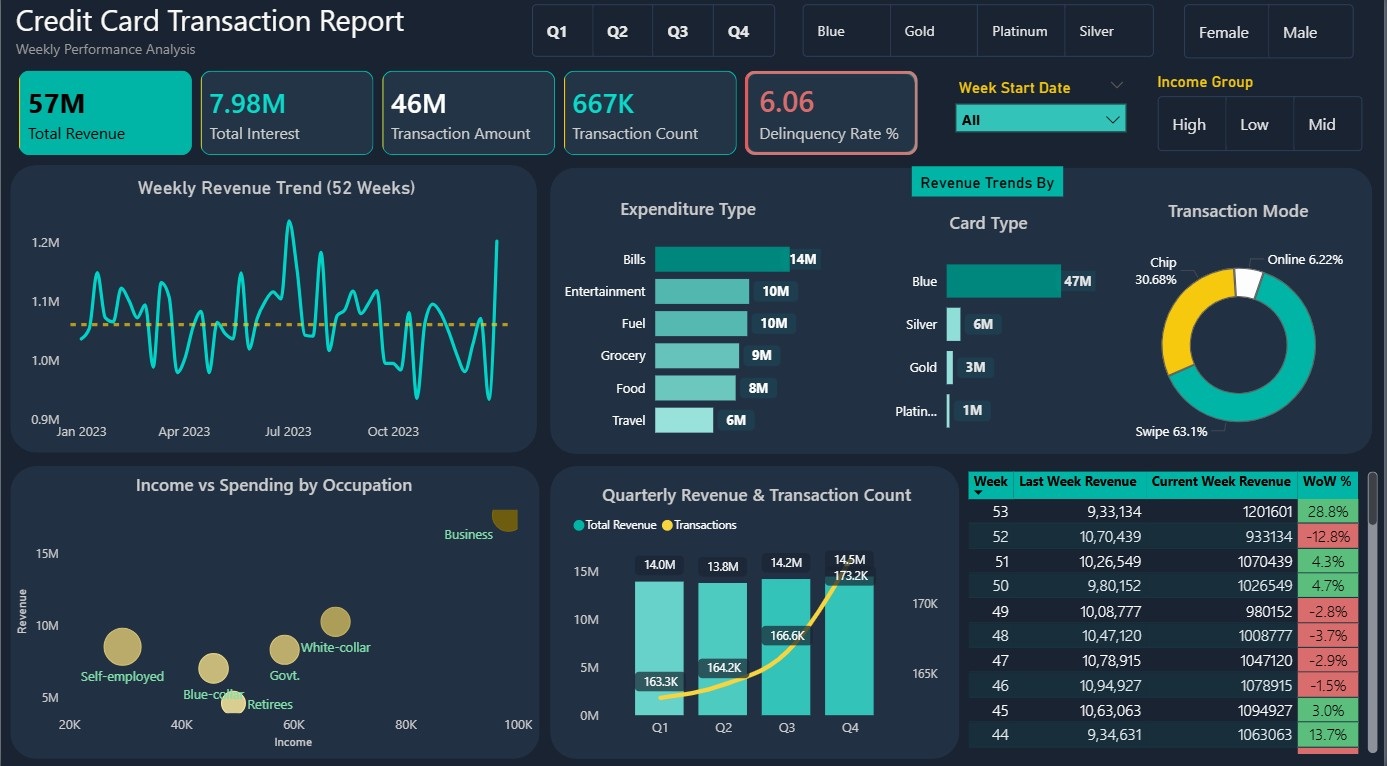

Layout of this report page (visuals, bound fields, positions):
{"tool":"powerbi","page":{"name":"Transaction Report","canvas":[1280,720],"ordinal":0},"visuals":[{"type":"textbox","box":[8.6,2.4,425.3,77],"z":0},{"type":"shape","box":[8.6,160.1,487.6,266.4],"z":0,"group":"g7"},{"type":"shape","box":[8.6,438.7,490,271.3],"z":0,"group":"g8"},{"type":"cardVisual","fields":{"Data":["Key Measures.Total Revenue","Key Measures.Total Interest","Key Measures.Transaction Amount","Key Measures.Transaction Count","Key Measures.Delinquency Rate %"]},"box":[0,56.2,866.4,112.4],"z":1000},{"type":"advancedSlicerVisual","fields":{"Values":["public cc_detail.qtr"]},"box":[486.4,6.1,238.3,59.9],"z":2000},{"type":"shape","box":[508.4,162.5,761.3,265.2],"z":2000,"group":"g5"},{"type":"slicer","fields":{"Values":["public cc_detail.week_start_date"]},"box":[873.7,74.5,178.4,72.1],"z":3000},{"type":"shape","box":[508.4,438.7,378.8,271.3],"z":3000,"group":"g4"},{"type":"advancedSlicerVisual","fields":{"Values":["public cc_detail.card_category"]},"box":[736.9,6.1,338.5,59.9],"z":4000},{"type":"barChart","title":"Expenditure Type","fields":{"Y":["Sum(public cc_detail.Revenue)"],"Category":["public cc_detail.exp_type"]},"box":[508.4,189.4,255.4,235.9],"z":4000,"group":"g5"},{"type":"lineStackedColumnComboChart","title":"Quarterly Revenue & Transaction Count","fields":{"Category":["Date Table.Quarter"],"Y":["Key Measures.Total Revenue"],"Y2":["Sum(public cc_detail.total_trans_ct)"]},"box":[524.3,453.4,350.7,246],"z":4000,"group":"g1"},{"type":"advancedSlicerVisual","fields":{"Values":["public cust_detail.Full Gender"]},"box":[1090.2,6.3,168.1,60.2],"z":5000},{"type":"advancedSlicerVisual","title":"Income Group","fields":{"Values":["public cust_detail.IncomeGroup"]},"box":[1065.6,74.5,201.6,78.2],"z":6000},{"type":"group","id":"g1","title":"Group 2","box":[524.3,453.4,350.7,245.6],"z":6000,"group":"g4"},{"type":"group","id":"g2","title":"Group 3","box":[8.6,160.1,487.6,266.4],"z":7000},{"type":"barChart","title":"Card Type","fields":{"Y":["Sum(public cc_detail.Revenue)"],"Category":["public cc_detail.card_category"]},"box":[809.7,201.6,208.3,223.6],"z":8000,"group":"g5"},{"type":"tableEx","fields":{"Values":["Date Table.Week Number","Key Measures.Previous Week Revenue","Key Measures.Total Revenue","Key Measures.WoW Change"]},"box":[889.6,438.7,389.8,271.3],"z":8000},{"type":"group","id":"g3","title":"Group 1","box":[8.6,438.7,490,271.3],"z":9000},{"type":"donutChart","title":"Transaction Mode","fields":{"Category":["public cc_detail.use_chip"],"Y":["Sum(public cc_detail.Revenue)"]},"box":[1026.7,190.6,238.1,250.5],"z":10000,"group":"g5"},{"type":"group","id":"g4","title":"Group 5","box":[508.4,438.7,378.8,271.3],"z":10000},{"type":"group","id":"g5","title":"Group 6","box":[508.4,161.3,761.3,279.8],"z":11000},{"type":"group","id":"g6","title":"Group 3","box":[8.6,438.7,490,271.3],"z":13000,"group":"g12"},{"type":"group","id":"g7","title":"Group 2","box":[8.6,160.1,487.6,266.4],"z":13500,"group":"g11"},{"type":"group","id":"g8","title":"Group 2","box":[8.6,438.7,490,271.3],"z":13500,"group":"g10"},{"type":"lineChart","title":"Weekly Revenue Trend  (52 Weeks)","fields":{"Category":["public cc_detail.week_start_date"],"Y":["Key Measures.Total Revenue"]},"box":[21.9,171.5,465.8,253.8],"z":15000,"group":"g11"},{"type":"textbox","box":[843.2,161.3,140.1,28.1],"z":16000,"group":"g5"},{"type":"scatterChart","title":"Income vs Spending by Occupation","fields":{"X":["Key Measures.Avg Income"],"Y":["Key Measures.Total Revenue"],"Category":["public cust_detail.customer_job"],"Size":["Key Measures.Customer Count"]},"box":[8.6,445.3,488.4,260.7],"z":16000,"group":"g12"},{"type":"group","id":"g9","title":"Group 4","box":[8.6,160.1,487.6,266.4],"z":16002,"group":"g2"},{"type":"group","id":"g10","title":"Group 4","box":[8.6,438.7,490,271.3],"z":16002,"group":"g6"},{"type":"group","id":"g11","title":"Group 8","box":[8.6,160.1,487.6,266.4],"z":17003,"group":"g9"},{"type":"group","id":"g12","title":"Group 7","box":[8.6,438.7,490,271.3],"z":17003,"group":"g3"}]}

Visuals, with their boxes in screenshot pixels (x1, y1, x2, y2), scaled from the page's 1280x720 canvas onto the 1387x766 screenshot:
textbox: <box>9,3,470,84</box>
shape: <box>9,170,538,454</box>
shape: <box>9,467,540,755</box>
cardVisual - Key Measures.Total Revenue x Key Measures.Total Interest: <box>0,60,939,179</box>
advancedSlicerVisual - public cc_detail.qtr: <box>527,6,785,70</box>
shape: <box>551,173,1376,455</box>
slicer - public cc_detail.week_start_date: <box>947,79,1140,156</box>
shape: <box>551,467,961,755</box>
advancedSlicerVisual - public cc_detail.card_category: <box>799,6,1165,70</box>
"Expenditure Type" barChart: <box>551,202,828,452</box>
"Quarterly Revenue & Transaction Count" lineStackedColumnComboChart: <box>568,482,948,744</box>
advancedSlicerVisual - public cust_detail.Full Gender: <box>1181,7,1363,71</box>
"Income Group" advancedSlicerVisual: <box>1155,79,1373,162</box>
"Group 2" group: <box>568,482,948,744</box>
"Group 3" group: <box>9,170,538,454</box>
"Card Type" barChart: <box>877,214,1103,452</box>
tableEx - Date Table.Week Number x Key Measures.Previous Week Revenue: <box>964,467,1386,755</box>
"Group 1" group: <box>9,467,540,755</box>
"Transaction Mode" donutChart: <box>1113,203,1371,469</box>
"Group 5" group: <box>551,467,961,755</box>
"Group 6" group: <box>551,172,1376,469</box>
"Group 3" group: <box>9,467,540,755</box>
"Group 2" group: <box>9,170,538,454</box>
"Group 2" group: <box>9,467,540,755</box>
"Weekly Revenue Trend  (52 Weeks)" lineChart: <box>24,182,528,452</box>
textbox: <box>914,172,1065,202</box>
"Income vs Spending by Occupation" scatterChart: <box>9,474,539,751</box>
"Group 4" group: <box>9,170,538,454</box>
"Group 4" group: <box>9,467,540,755</box>
"Group 8" group: <box>9,170,538,454</box>
"Group 7" group: <box>9,467,540,755</box>
